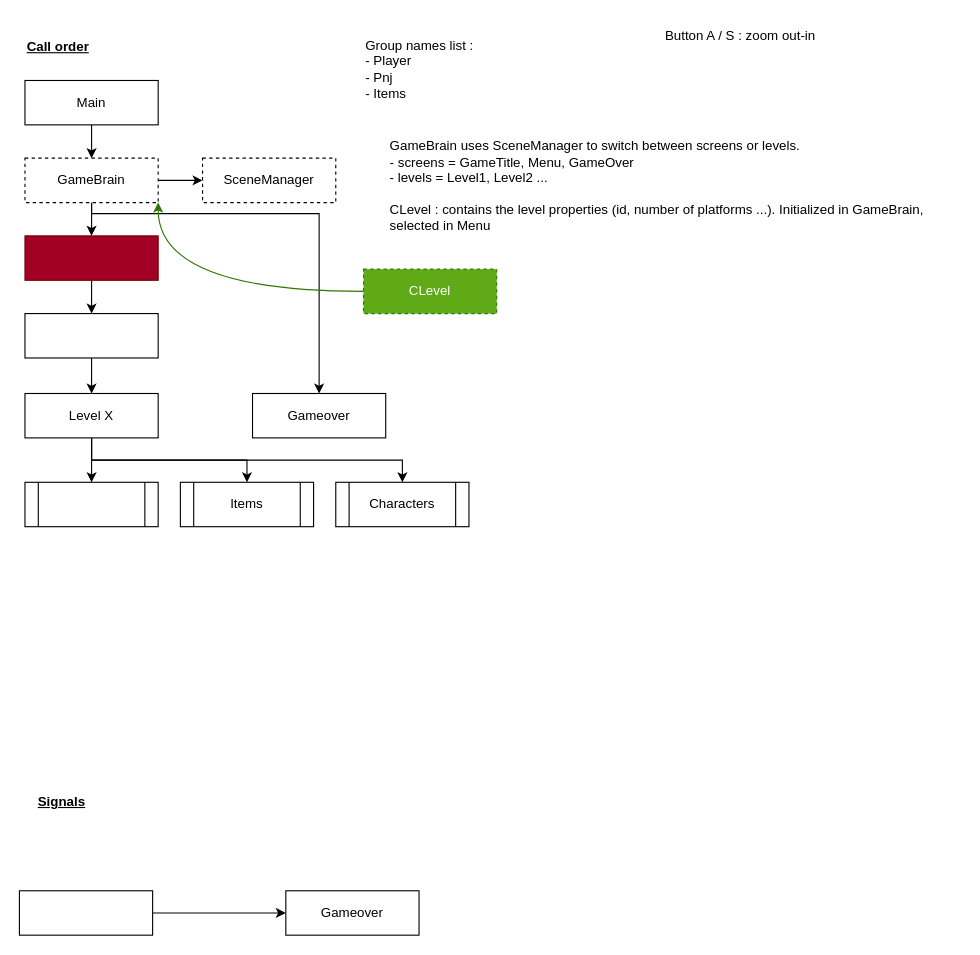
Image size: 980x955. Some labels were removed from this diagram. The shapes that lost their labels are listed below. From the top down, each one's centre as x and y in pixels, then its label:
point (91, 257): GameLogo
point (91, 335): Menu
point (85, 912): Game
